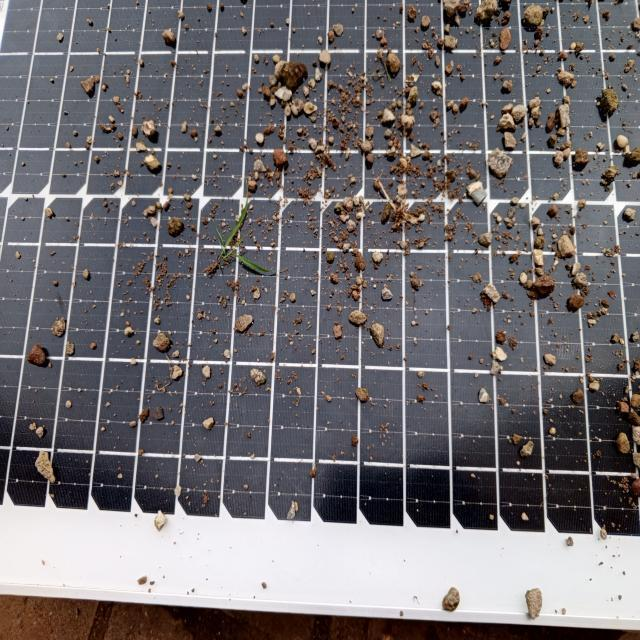Surface Contaminant: (7, 0, 639, 580)
